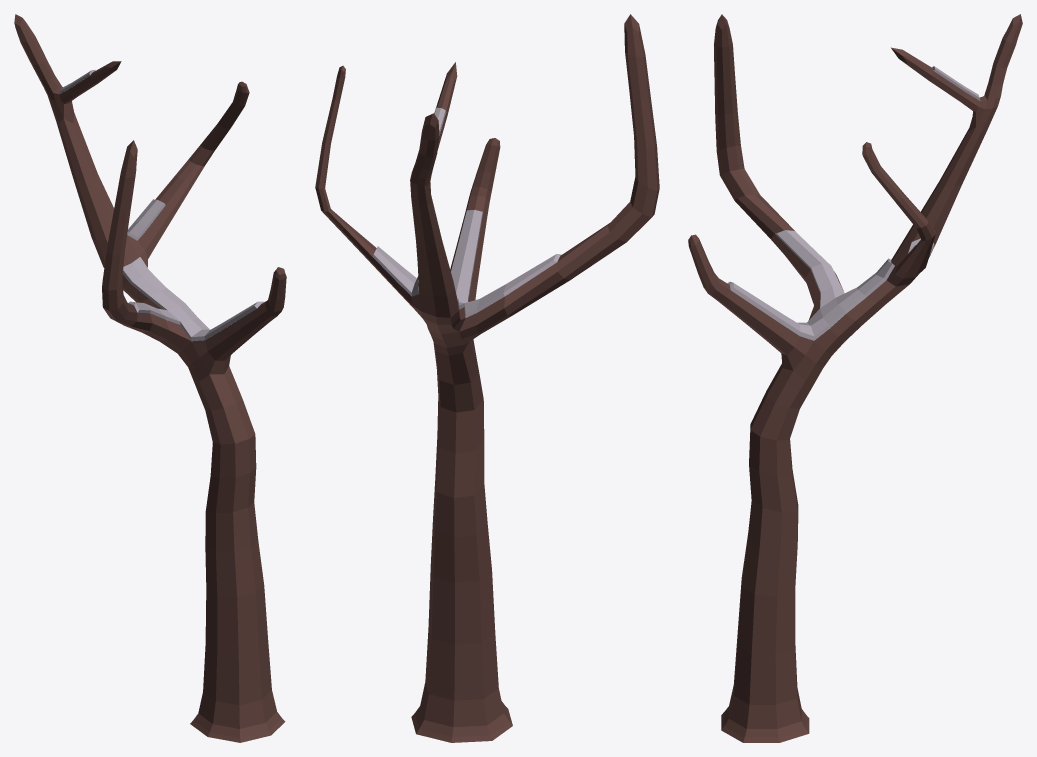
File: CommonTree_Dead_Snow_4.glb
The picture shows the model from 3 angles, left to right: view 1: azimuth 30°, elevation 25°; view 2: azimuth 150°, elevation 25°; view 3: azimuth 270°, elevation 25°; orthographic projection. The views are drawn at different scales.
Visible parts, largest first — view 1: CommonTree; view 2: CommonTree; view 3: CommonTree.
Part boxes in pixels (box(x1,y1,x2,y2)): CommonTree: box(14, 14, 286, 742); CommonTree: box(315, 14, 659, 742); CommonTree: box(688, 14, 1022, 742).
Bounding box in the file's own units: 0.816 × 2.37 × 1.08.
